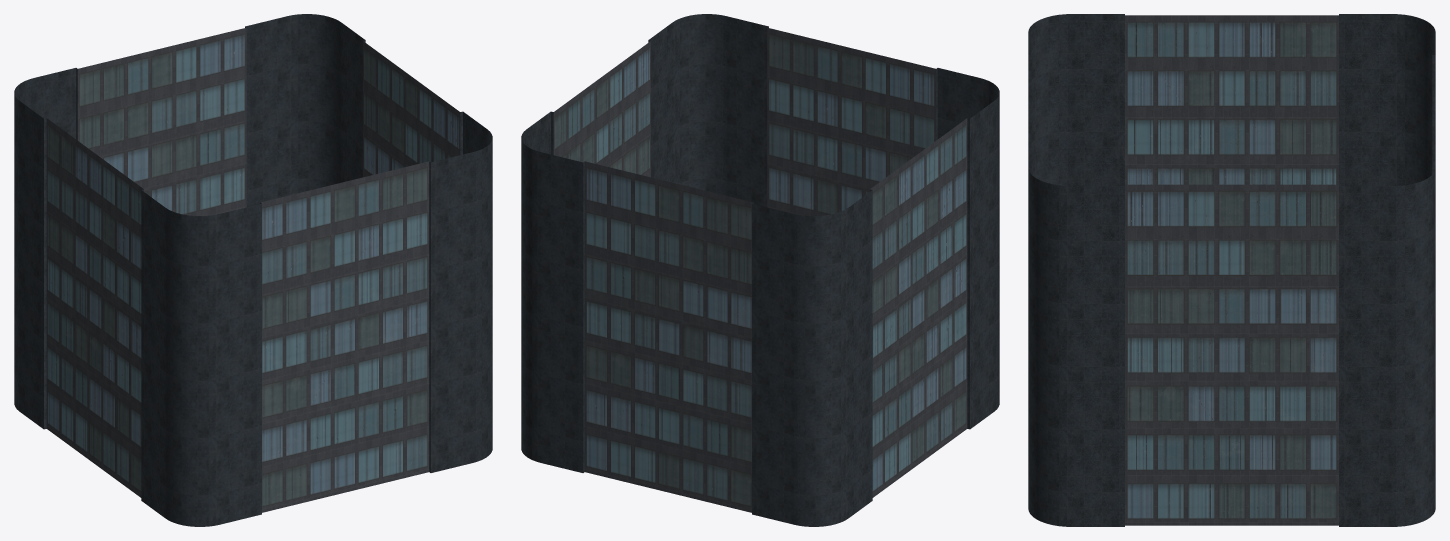
The model's file is jctBld24_E_mdl_low.fbx.
3 renders of one model, left to right at view 1: azimuth 30°, elevation 25°; view 2: azimuth 150°, elevation 25°; view 3: azimuth 270°, elevation 25°, orthographic. The views are drawn at different scales.
Parts seen in each view (by area): view 1: jctBld24_E_mdl_low; view 2: jctBld24_E_mdl_low; view 3: jctBld24_E_mdl_low.
Part boxes in pixels (bbox=[...]): jctBld24_E_mdl_low: bbox=[14, 14, 492, 526]; jctBld24_E_mdl_low: bbox=[521, 14, 999, 526]; jctBld24_E_mdl_low: bbox=[1028, 14, 1435, 526].
Size of the model in its own units: 2350 by 2170 by 2350.
